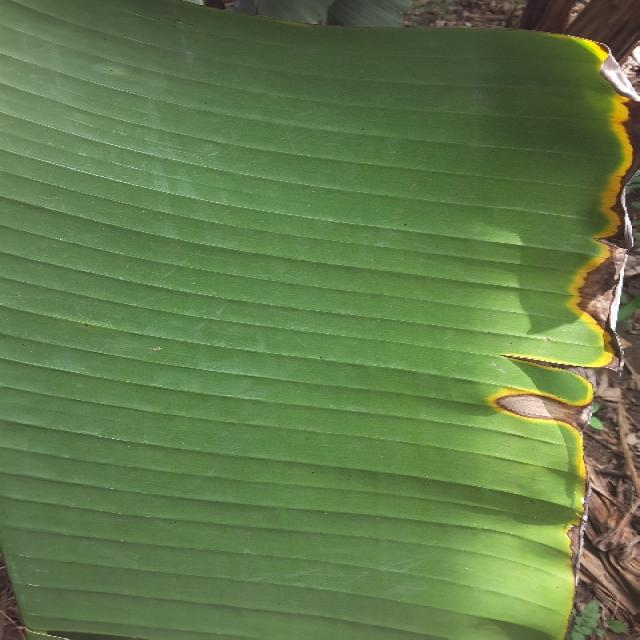Cordana: (470, 15, 640, 638)
